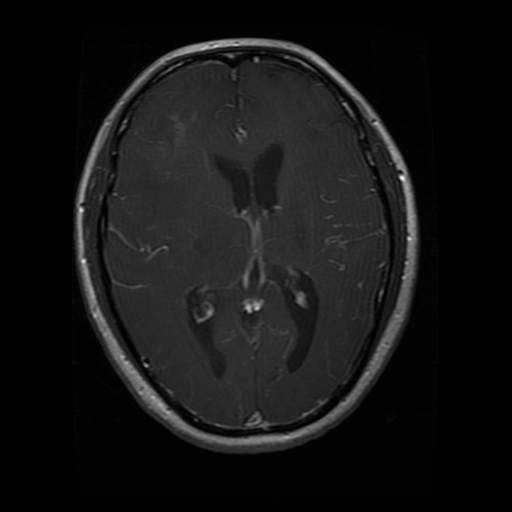glioma: (137, 102, 210, 186)
